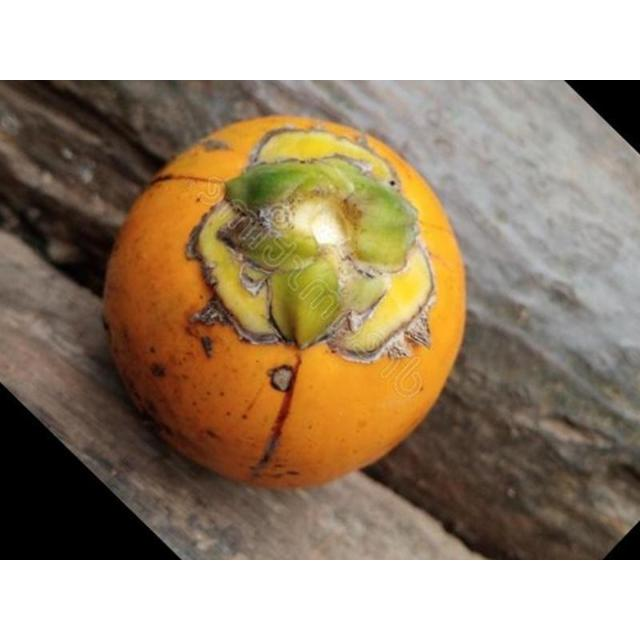good: (100, 114, 469, 490)
